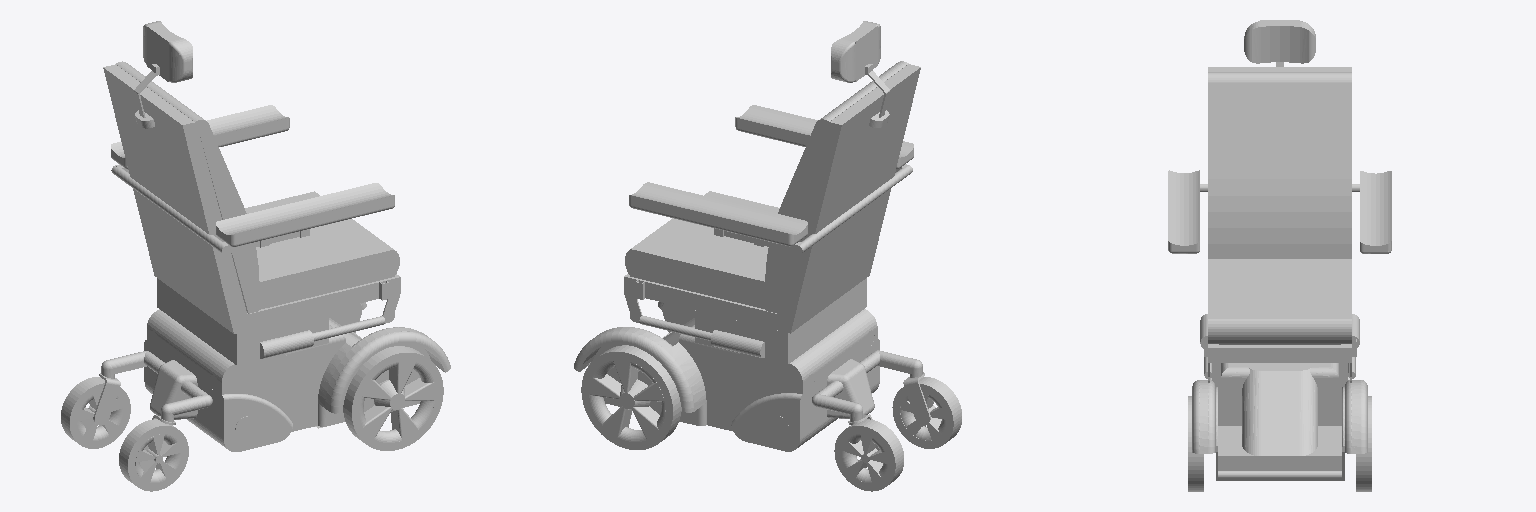
The robot description file, URDF, robot "wheelchair":
<?xml version="1.0" ?>
<robot name="wheelchair">
    <link name="base_link">
        <inertial>
            <mass value="5" />
            <origin xyz="0 0 0" rpy="0 0 0" />
            <inertia ixx="0.070968" ixy="-0.009135" ixz="-0.000056" iyy="0.048896" iyz="0.000007" izz="0.086415" />
        </inertial>
        <visual>
            <geometry>
                <mesh filename="wheelchair.obj" scale="1 1 1"/>
            </geometry>
            <material name="aluminium">
                <color rgba="0.827450980392156 0.827450980392156 0.827450980392156 1.0"/>
            </material>
        </visual>
        <collision>
            <geometry>
                <mesh filename="simplified_wheelchair.obj" scale="1 1 1"/>
            </geometry>
        </collision>
    </link>
</robot>

--- What the picture shows (computed from the rendered views, not written in the file) ---
The picture shows the robot from 3 angles, left to right: view 1: azimuth 30°, elevation 25°; view 2: azimuth 150°, elevation 25°; view 3: azimuth 270°, elevation 25°; orthographic projection.
Model wheelchair with 1 links and 0 joints (none), rooted at base_link, posed every joint at zero.
Visible links, largest first — view 1: base_link; view 2: base_link; view 3: base_link.
Link boxes in pixels (bbox=[...]): base_link: bbox=[61, 21, 450, 491]; base_link: bbox=[574, 21, 961, 491]; base_link: bbox=[1168, 20, 1391, 491].
Size in the robot's own frame: 1.03 by 0.7102 by 1.35 metres.
1 mesh visuals loaded from 1 distinct referenced files (1 OBJ).